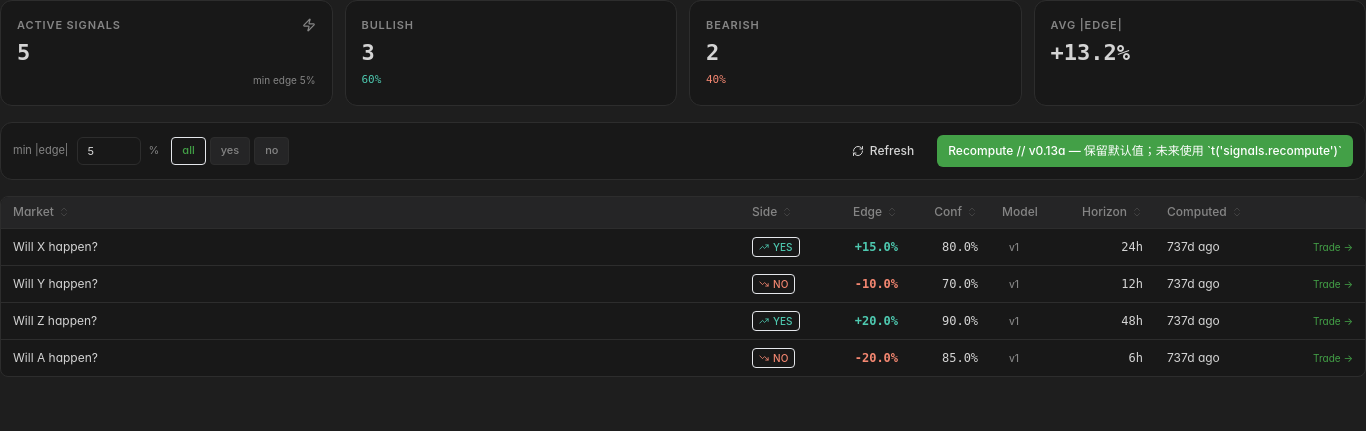
Scenario: Signals (extended) › clamps minEdgePct input to [1, 50] range
Expected: the link "Will X happen?" is shown, [13,239,98,254]
# 尝试输入 0 → 应被夹紧到 1
Replace the text in the number field showing "5" with "0". click: {"x": 108, "y": 150}
box: [76,136,140,164]
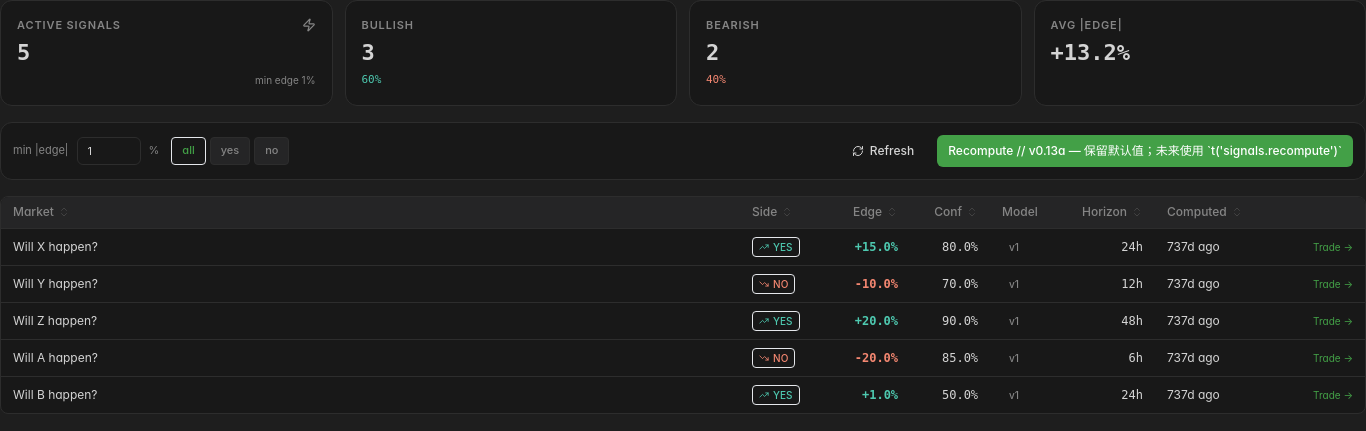
Result: the number field showing "5" holds "1"
# 尝试输入 999 → 应被夹紧到 50
Replace the text in the number field showing "5" with "999". click: {"x": 108, "y": 150}
box: [76,136,140,164]
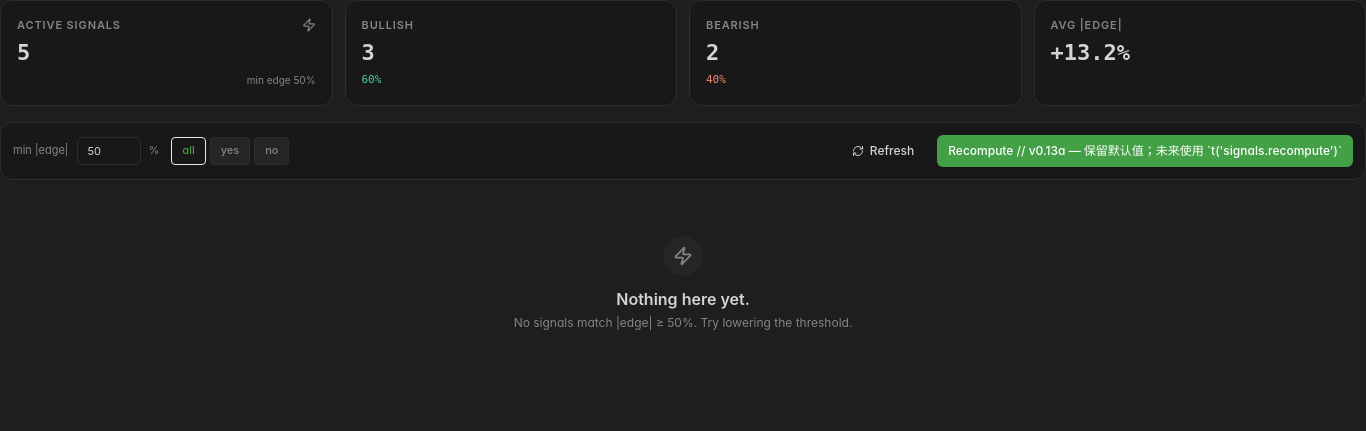
Result: the number field showing "5" holds "50" at [76,136,140,164]
